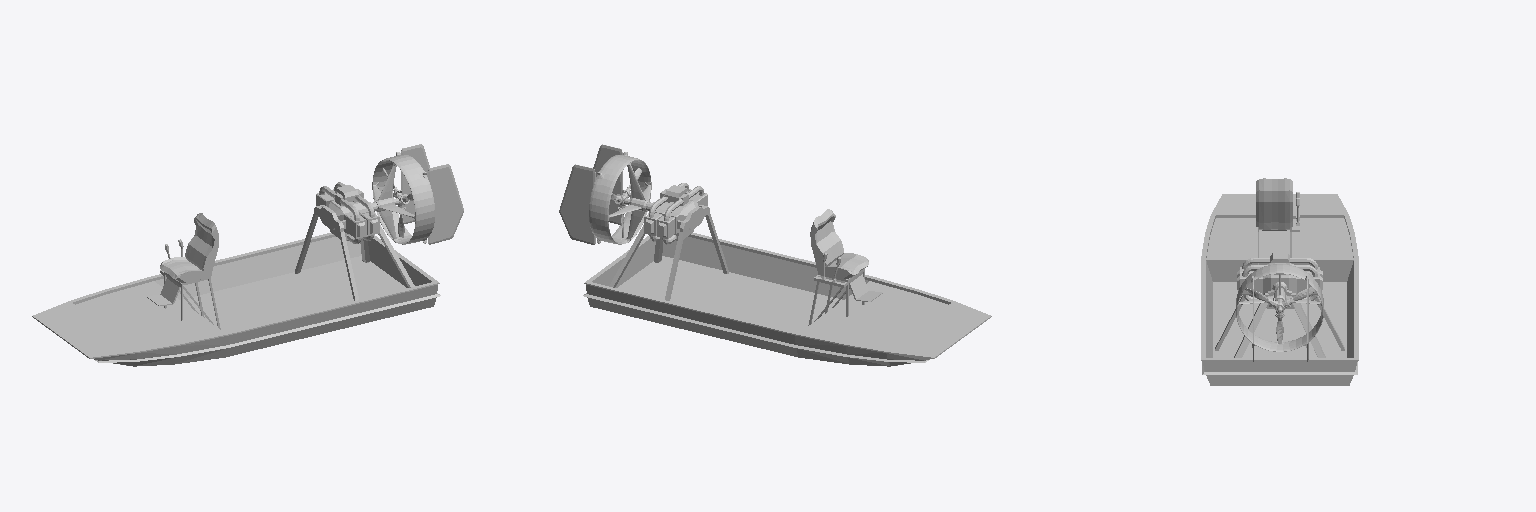
Rendered from airboat2.obj.
The picture shows the model from 3 angles: view 1: azimuth 30°, elevation 25°; view 2: azimuth 150°, elevation 25°; view 3: azimuth 270°, elevation 25°; orthographic projection.
Visible parts, largest first — view 1: airboat; view 2: airboat; view 3: airboat.
Boxes of the visible parts, x1,y1,x2,y2 form: airboat: [32, 144, 463, 366]; airboat: [559, 144, 991, 366]; airboat: [1201, 178, 1358, 385].
Size of the model in its own units: 16.23 by 4.8 by 5.68.